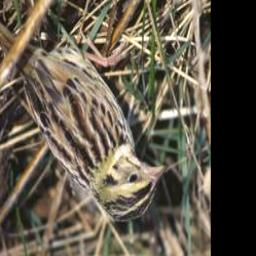Sparrow: (0, 0, 170, 228)
